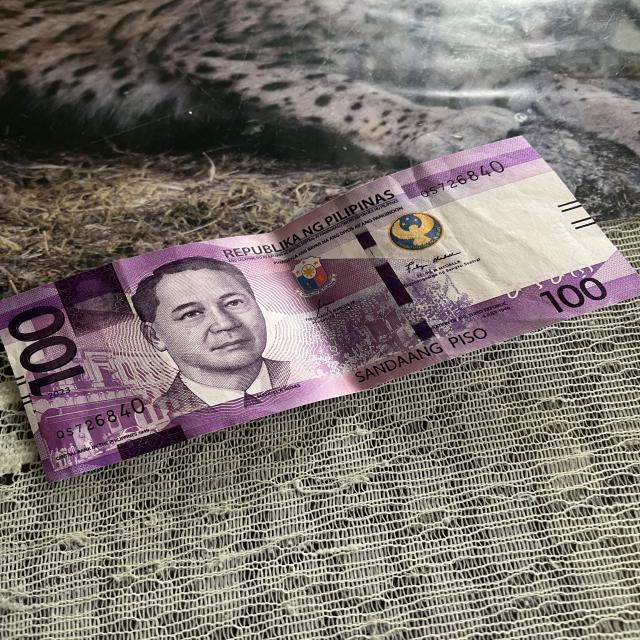concealed_value: (50, 264, 136, 326)
security_thread: (328, 189, 447, 364)
see_through_mark: (484, 258, 595, 301)
serial_number: (40, 393, 152, 445), (407, 158, 517, 201)
value: (7, 296, 87, 396)
